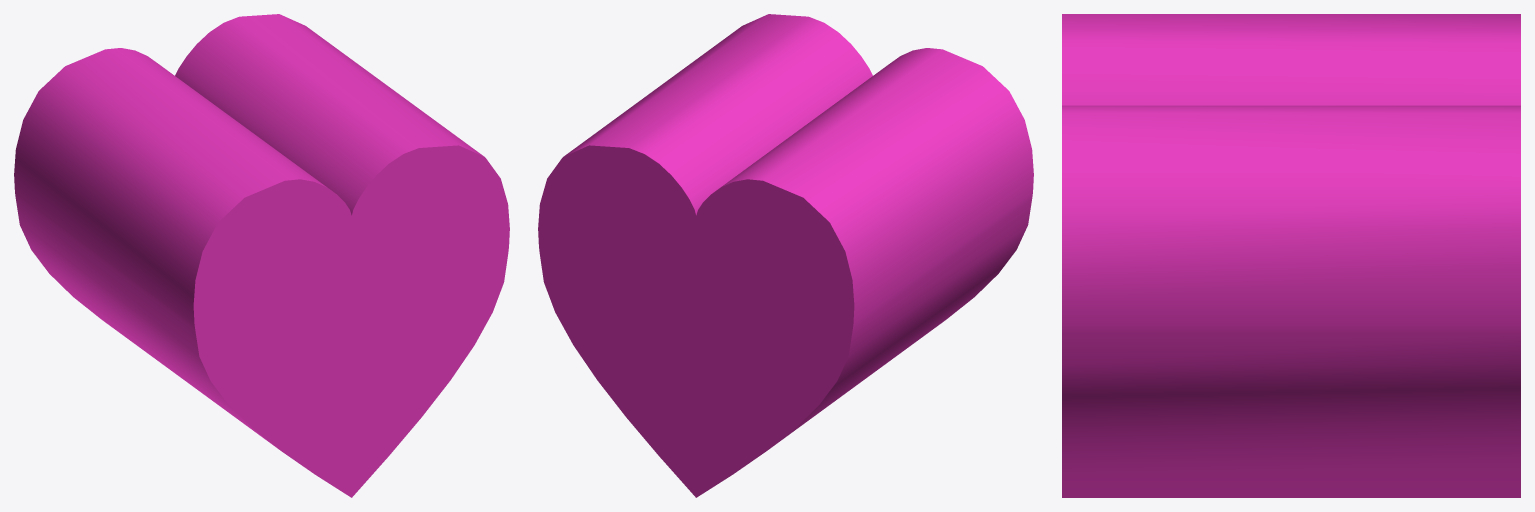
The model's file is basic_heart.glb.
3 renders of one model, left to right at view 1: azimuth 30°, elevation 25°; view 2: azimuth 150°, elevation 25°; view 3: azimuth 270°, elevation 25°, orthographic. The views are drawn at different scales.
Visible parts, largest first — view 1: Object_2; view 2: Object_2; view 3: Object_2.
Boxes of the visible parts, left/top/right/bottom form: Object_2: left=14, top=14, right=509, bottom=497; Object_2: left=538, top=14, right=1033, bottom=497; Object_2: left=1062, top=14, right=1520, bottom=497.
Size of the model in its own units: 195 by 197 by 192.
